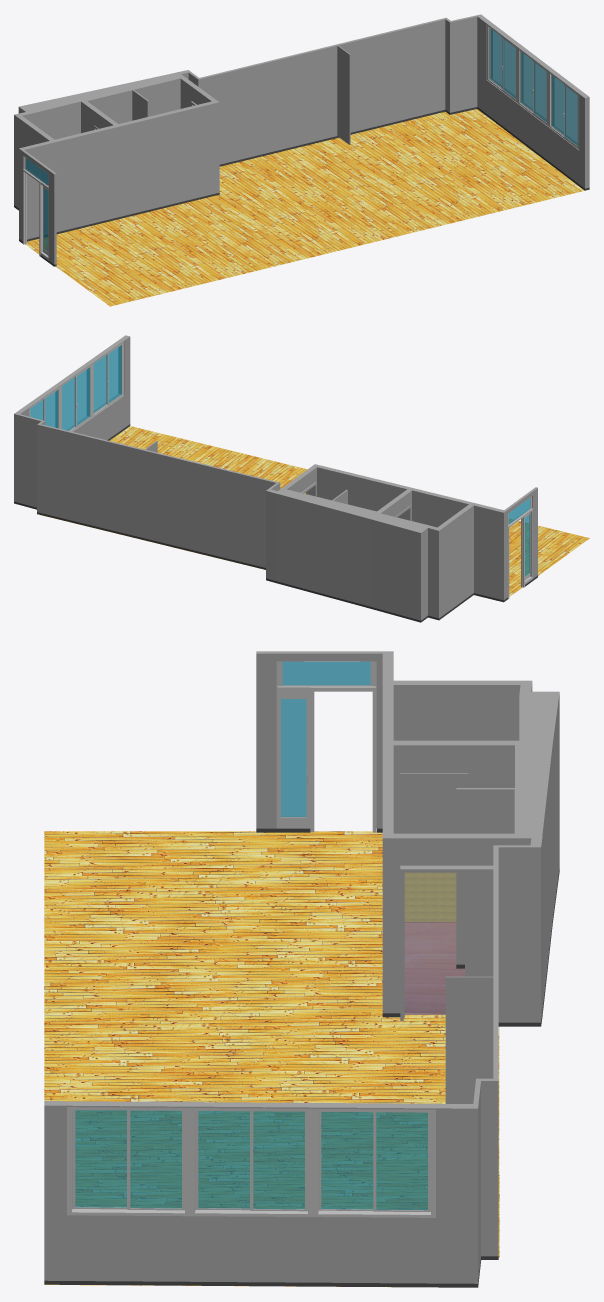
File: bsen.dae
3 renders of one model, top to bottom at view 1: azimuth 30°, elevation 25°; view 2: azimuth 150°, elevation 25°; view 3: azimuth 270°, elevation 25°, orthographic. The views are drawn at different scales.
Parts seen in each view (by area): view 1: wall (×8), floar, glass (×6), window, black (×2), door; view 2: wall (×3), floar, glass (×5), black, window, door; view 3: floar, wall (×9), glass (×8), window (×4), toi_f, door (×3), bus_f, black.
Part boxes in pixels (<box>): wall (×8): <box>14,14,589,264</box>; floar: <box>25,109,584,306</box>; glass (×6): <box>490,28,577,145</box>; window: <box>487,25,579,149</box>; black (×2): <box>14,107,589,242</box>; door: <box>23,169,40,256</box>; wall (×3): <box>14,335,537,620</box>; floar: <box>39,426,589,596</box>; glass (×5): <box>45,345,121,430</box>; black: <box>14,424,473,622</box>; window: <box>29,342,123,431</box>; door: <box>508,514,524,599</box>; floar: <box>44,831,499,1287</box>; wall (×9): <box>44,651,559,1283</box>; glass (×8): <box>75,661,427,1210</box>; window (×4): <box>67,1107,435,1217</box>; toi_f: <box>404,922,464,1014</box>; door (×3): <box>276,685,376,832</box>; bus_f: <box>404,872,456,921</box>; black: <box>44,868,559,1287</box>.
Bounding box in the file's own units: 589 × 280 × 107.
7 materials, 3 textured.
